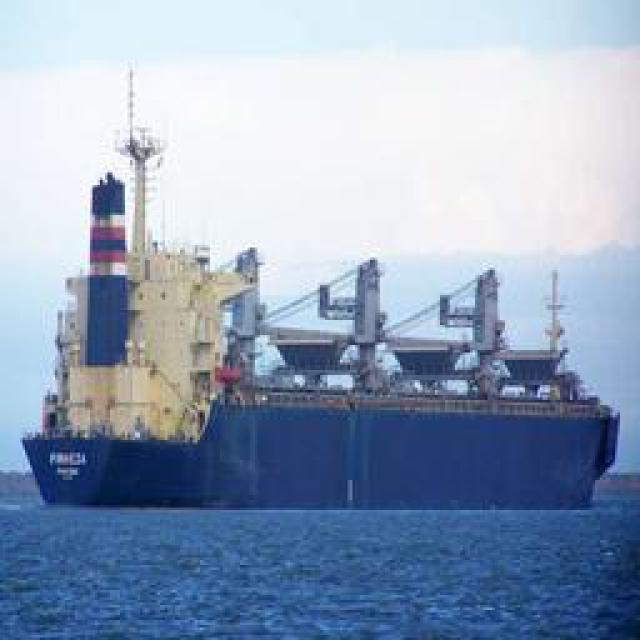Ship: (25, 220, 625, 513)
